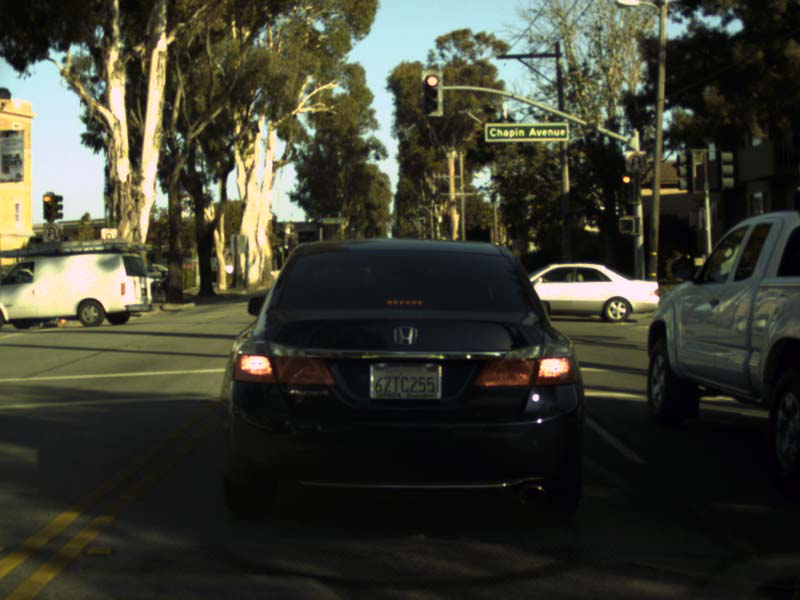Red: (424, 74, 438, 112), (42, 193, 54, 219), (621, 175, 631, 201)
